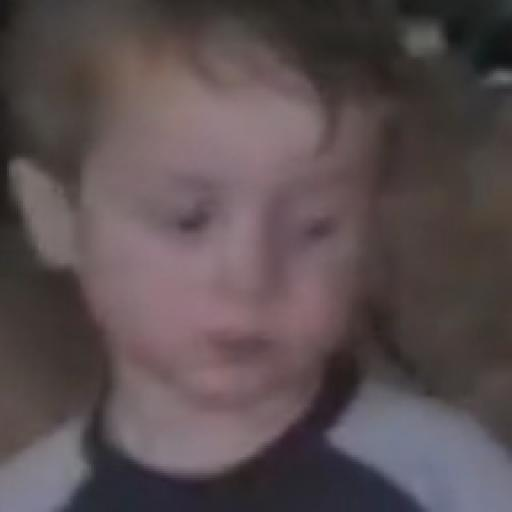Autism: (10, 10, 440, 481)
